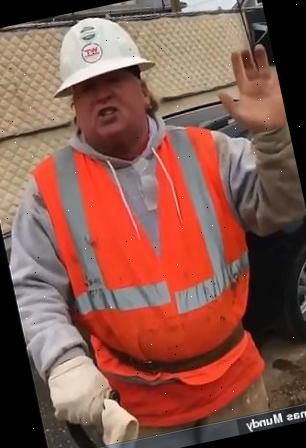helmet: (40, 5, 157, 99)
wear: (40, 123, 269, 387)
